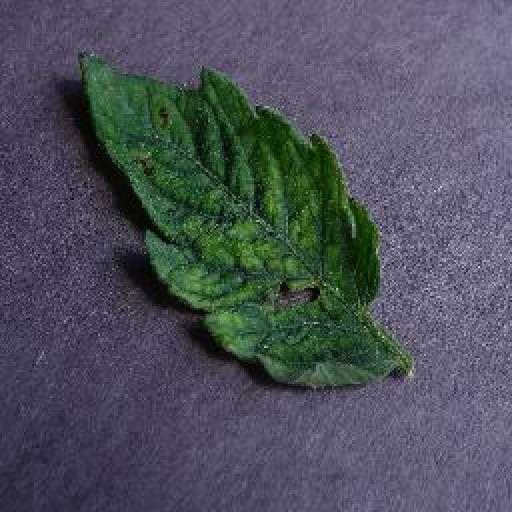disease_tomato: (78, 41, 400, 391)
